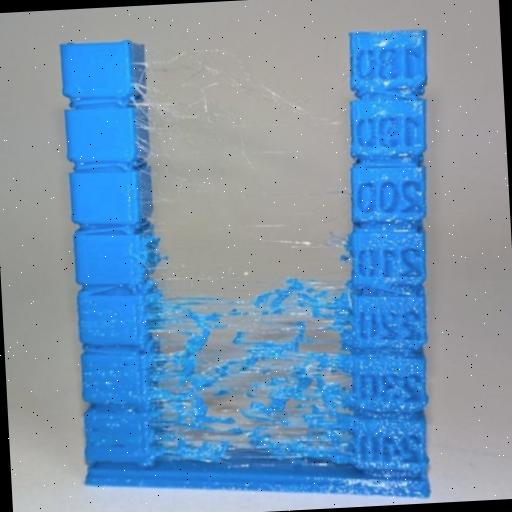stringing: (148, 216, 358, 472), (130, 25, 347, 177)
